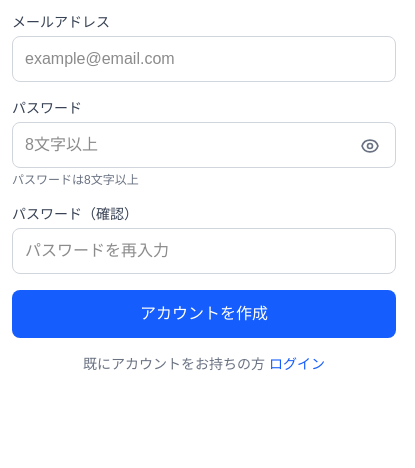
Test: SignupForm › should show generic error on exception
The width and height of the screenshot is (415, 468).
Type "test@example.com" into the field labelled "メールアドレス" at (204,59), box [12, 36, 396, 82]
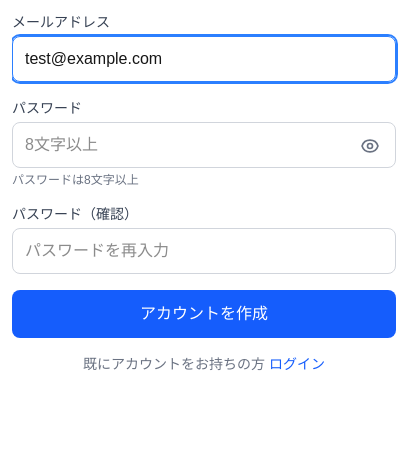
Type "password123" into the password field labelled "パスワード" at (204,145), box [12, 122, 396, 168]
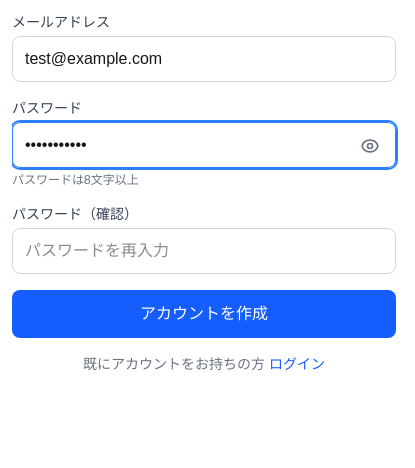
Type "password123" into the password field labelled "パスワード（確認）" at (204,251), box [12, 228, 396, 274]
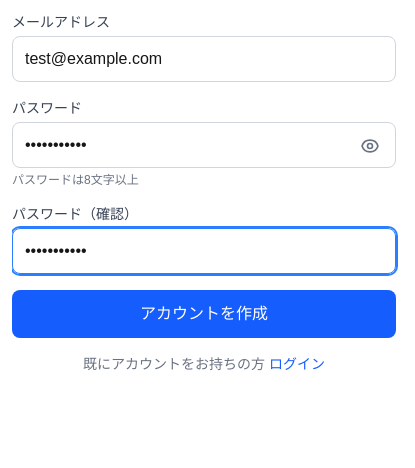
Click the button "アカウントを作成" at (204,314), box [12, 290, 396, 338]
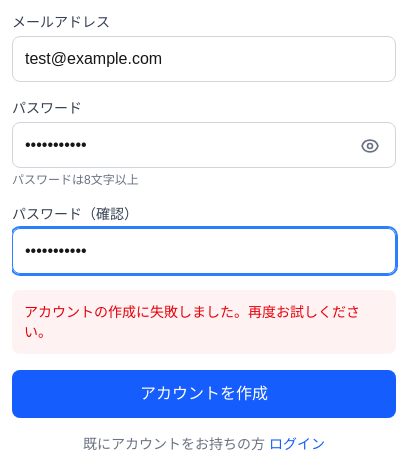
Expected: the text "アカウントの作成に失敗しました。再度お試しください。" is shown, [12, 290, 396, 354]
